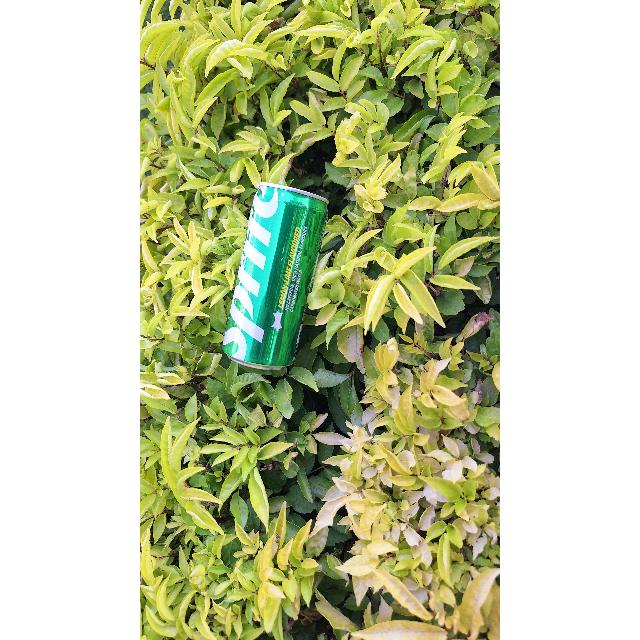Sprite: (220, 182, 338, 372)
